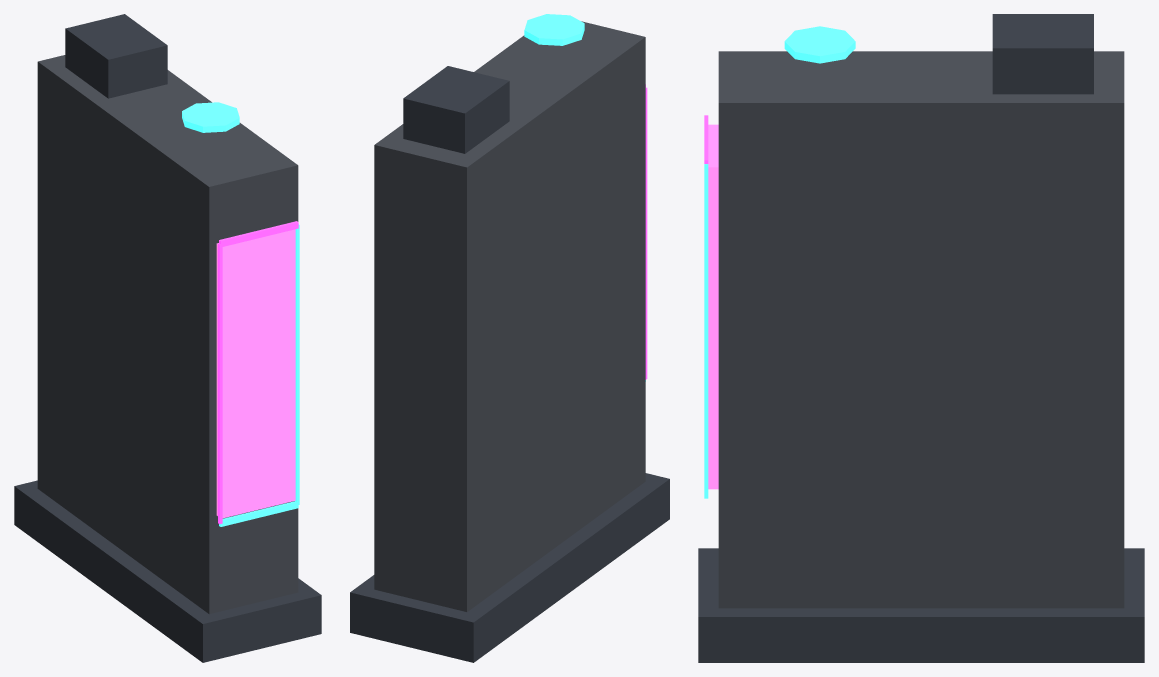
Rendered from billboard_slab.glb.
The picture shows the model from 3 angles, left to right: view 1: azimuth 30°, elevation 25°; view 2: azimuth 150°, elevation 25°; view 3: azimuth 270°, elevation 25°; orthographic projection. The views are drawn at different scales.
Visible parts, largest first — view 1: billboard_slab; view 2: billboard_slab; view 3: billboard_slab.
Boxes of the visible parts, x1,y1,x2,y2 form: billboard_slab: (14, 14, 321, 662); billboard_slab: (350, 14, 669, 662); billboard_slab: (698, 14, 1144, 662).
Size of the model in its own units: 1.6 by 6.5 by 4.4.
